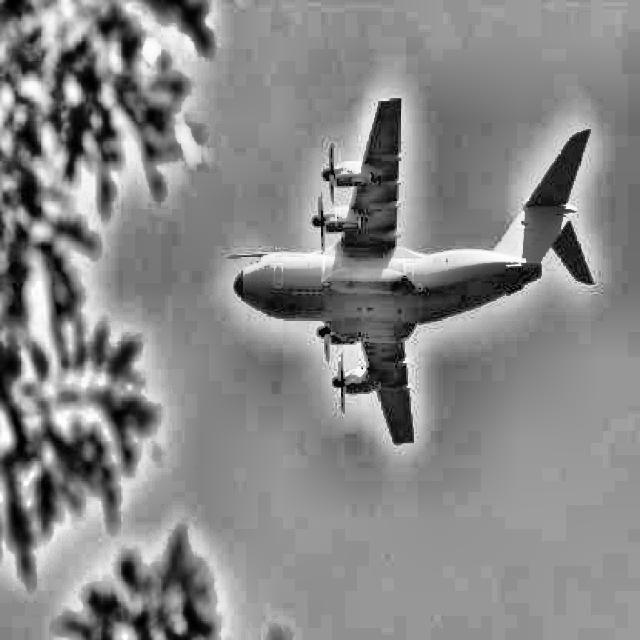A400M: (228, 97, 594, 445)
